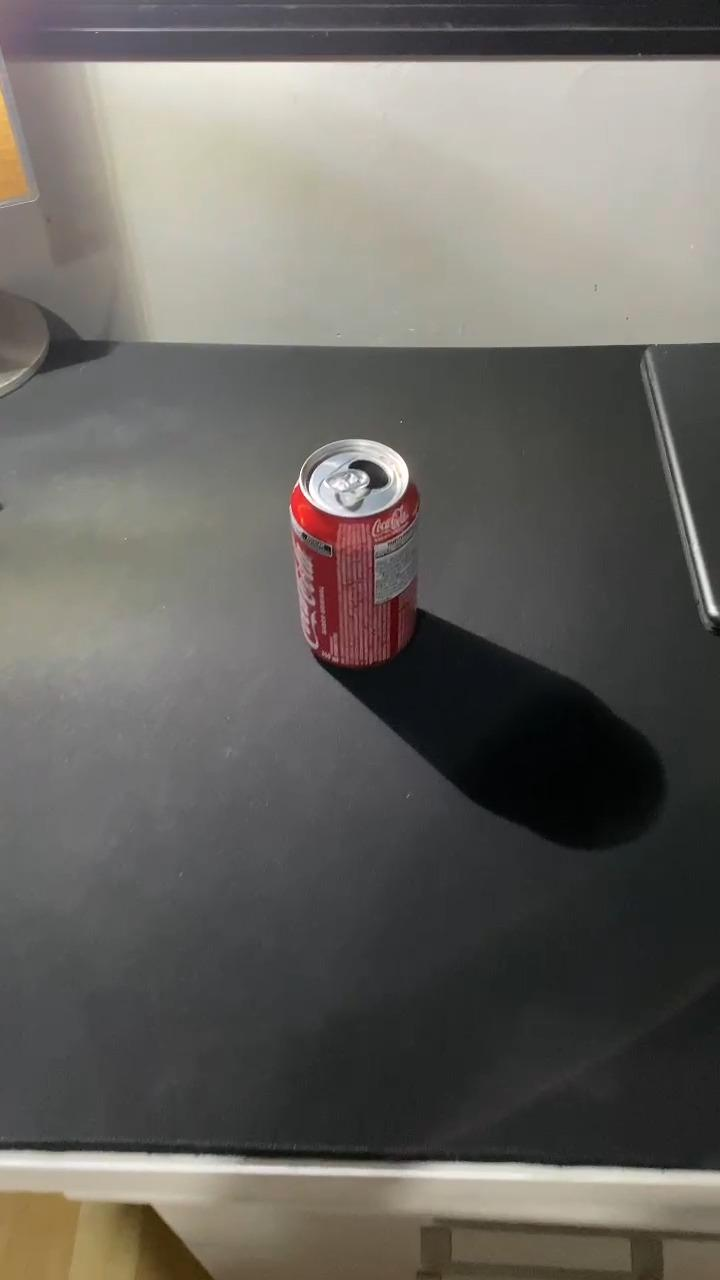coke: (290, 433, 422, 681)
